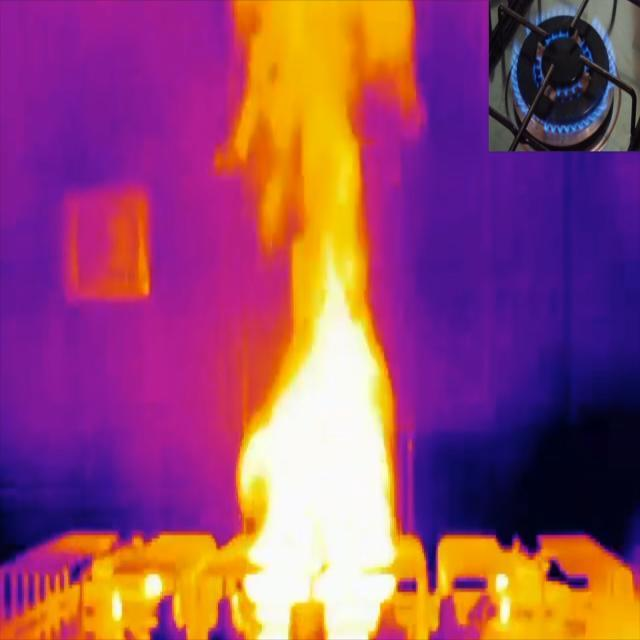fire: (224, 259, 427, 635), (110, 568, 165, 622), (488, 568, 519, 631)
